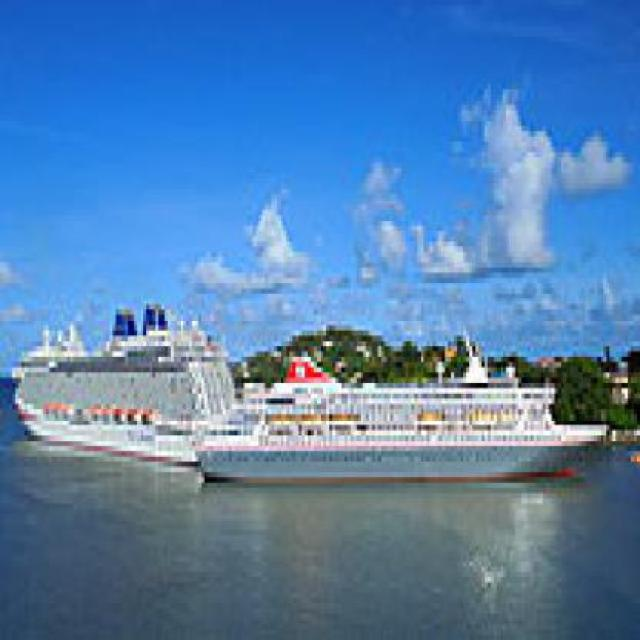cruise: (193, 353, 614, 494), (6, 294, 242, 468)
